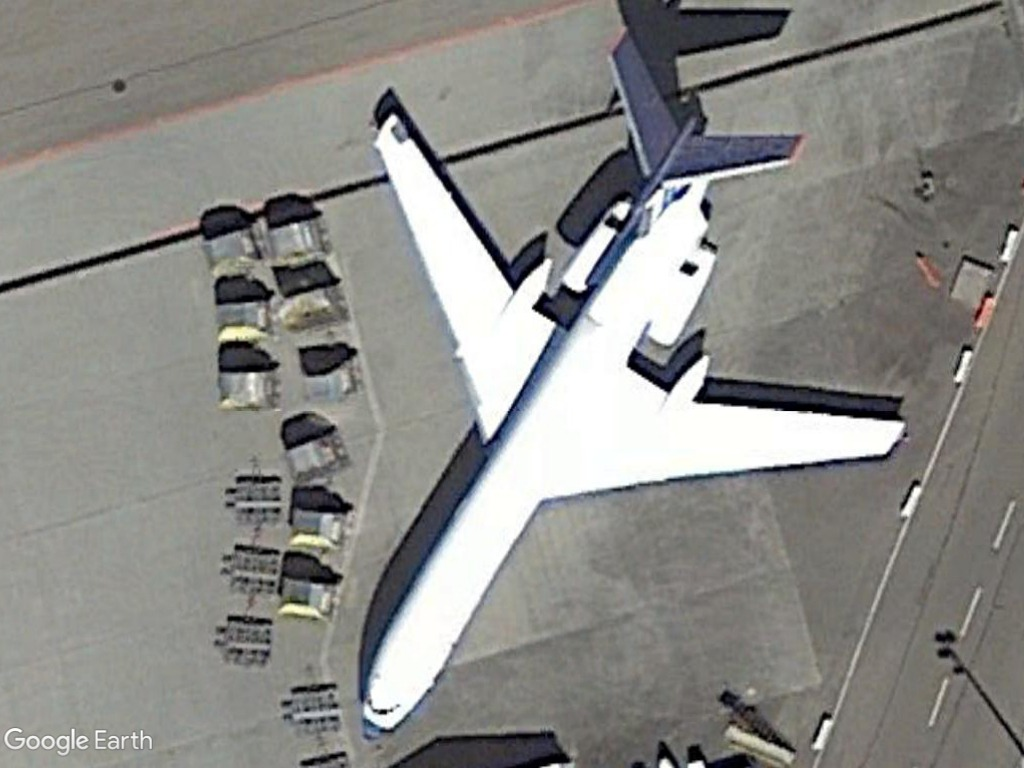chartered: (290, 17, 916, 752)
